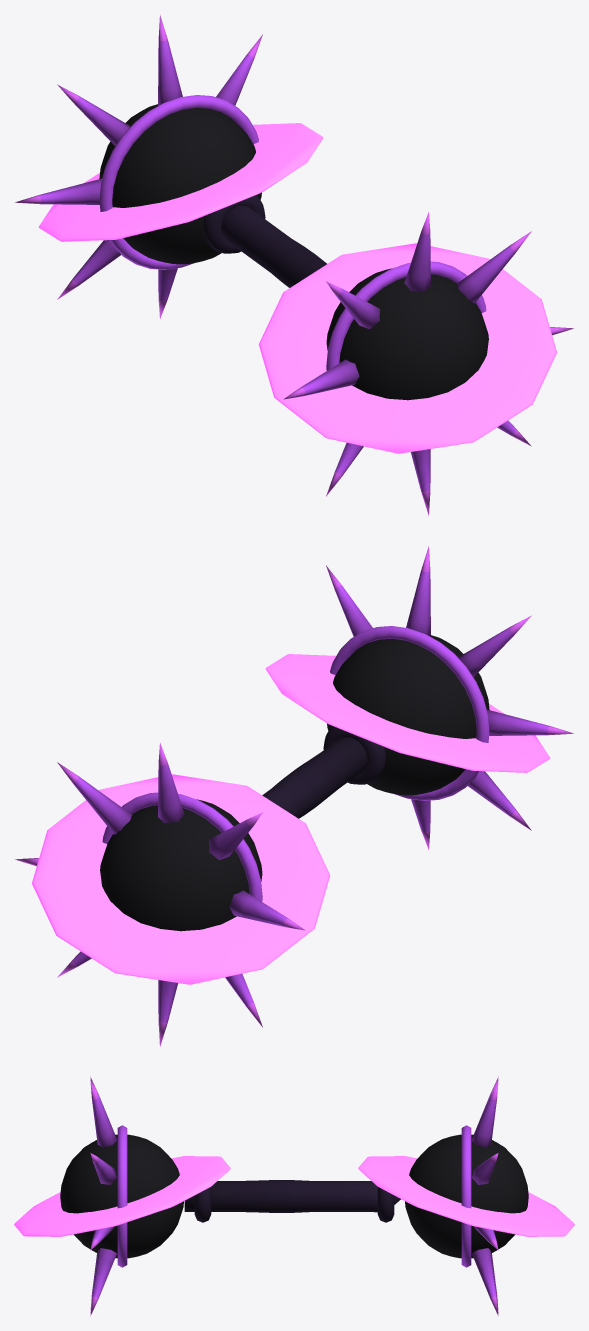
The model's file is VoidDumbbell.glb.
3 views of the same model, one above another, from view 1: azimuth 30°, elevation 25°; view 2: azimuth 150°, elevation 25°; view 3: azimuth 270°, elevation 25° (orthographic). The views are drawn at different scales.
Parts seen in each view (by area): view 1: VoidDumbbell, VoidDumbbell_Glow; view 2: VoidDumbbell, VoidDumbbell_Glow; view 3: VoidDumbbell, VoidDumbbell_Glow.
Boxes of the visible parts, bbox=[...] form: VoidDumbbell: bbox=[15, 15, 573, 515]; VoidDumbbell_Glow: bbox=[38, 123, 556, 453]; VoidDumbbell: bbox=[15, 546, 573, 1046]; VoidDumbbell_Glow: bbox=[32, 654, 550, 984]; VoidDumbbell: bbox=[60, 1076, 528, 1316]; VoidDumbbell_Glow: bbox=[14, 1156, 574, 1236].
Bounding box in the file's own units: 1.4 × 1.4 × 3.06.
Materials: 2 (1 with a texture image).
